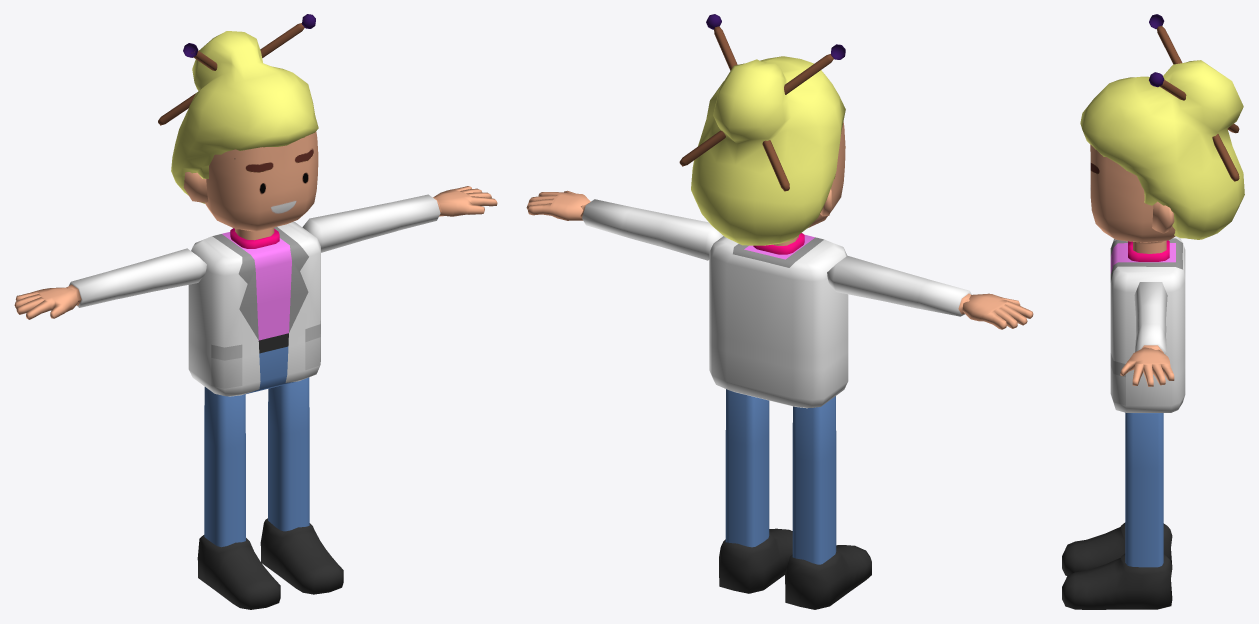
File: NPC_White01_BlondeHair04.gltf
The picture shows the model from 3 angles, left to right: view 1: azimuth 30°, elevation 25°; view 2: azimuth 150°, elevation 25°; view 3: azimuth 270°, elevation 25°; orthographic projection. The views are drawn at different scales.
Visible parts, largest first — view 1: NPC_Corpo_White1_BlondeHair.004; view 2: NPC_Corpo_White1_BlondeHair.004; view 3: NPC_Corpo_White1_BlondeHair.004.
Boxes of the visible parts, x1=… form: NPC_Corpo_White1_BlondeHair.004: x1=14, y1=14, x2=497, y2=609; NPC_Corpo_White1_BlondeHair.004: x1=526, y1=14, x2=1033, y2=609; NPC_Corpo_White1_BlondeHair.004: x1=1062, y1=14, x2=1244, y2=609.
Bounding box in the file's own units: 2.31 × 2.5 × 0.7676.
1 material, 1 textured.
